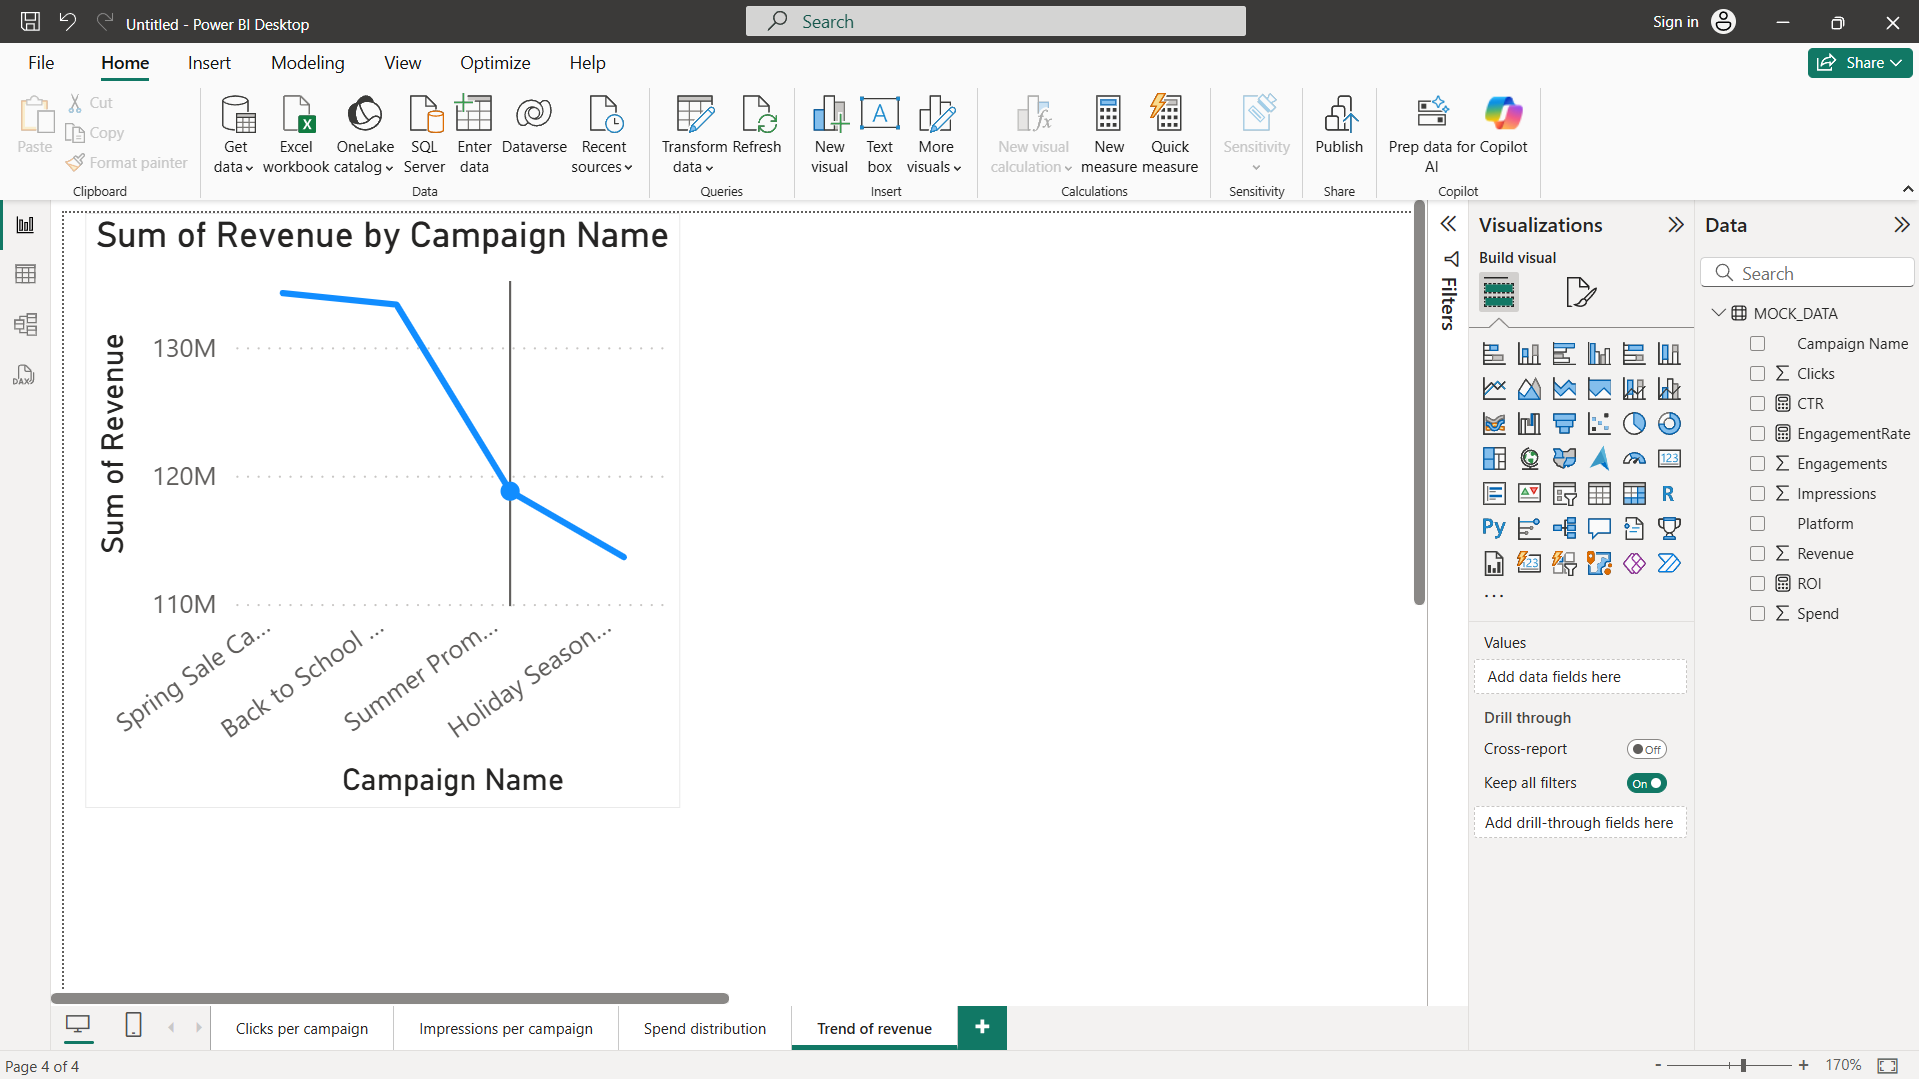

What the dashboard file says about the page in this screenshot:
{"tool":"powerbi","page":{"name":"Trend of revenue","canvas":[1280,720],"ordinal":3},"visuals":[{"type":"lineChart","fields":{"Category":["MOCK_DATA.Campaign Name"],"Y":["Sum(MOCK_DATA.Revenue)"]},"box":[10,0,280,280],"z":0}]}

Visuals, with their boxes on the page's 1280x720 design canvas (x1, y1, x2, y2). These are canvas units, not pixel positions in the 1919x1079 screenshot, which may show the page scaled, cropped or inside an application window:
lineChart - MOCK_DATA.Campaign Name x Sum(MOCK_DATA.Revenue): [left=10, top=0, right=290, bottom=280]
